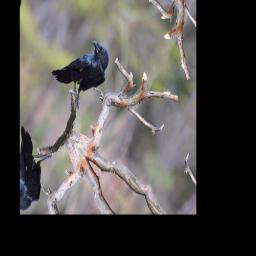Crow: (49, 17, 116, 116)
